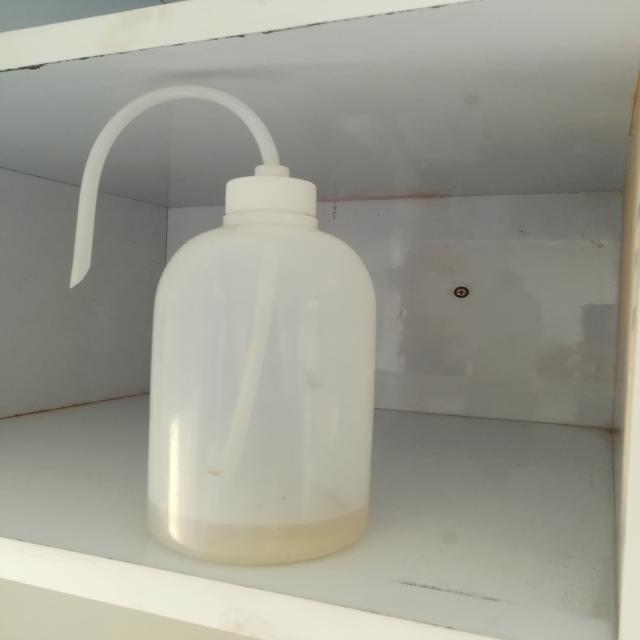Wash_Bottle: (35, 65, 438, 592)
